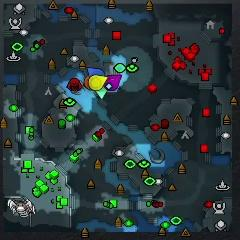p1: (87, 66, 105, 78)
p2: (95, 87, 107, 100)
p3: (104, 74, 122, 91)
p4: (89, 75, 108, 91)
p5: (85, 75, 90, 90)
